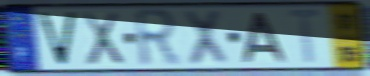A: (240, 11, 289, 64)
R: (132, 7, 182, 70)
T: (285, 7, 327, 68)
V: (33, 10, 81, 69)
X: (181, 8, 230, 68), (79, 9, 126, 68)
